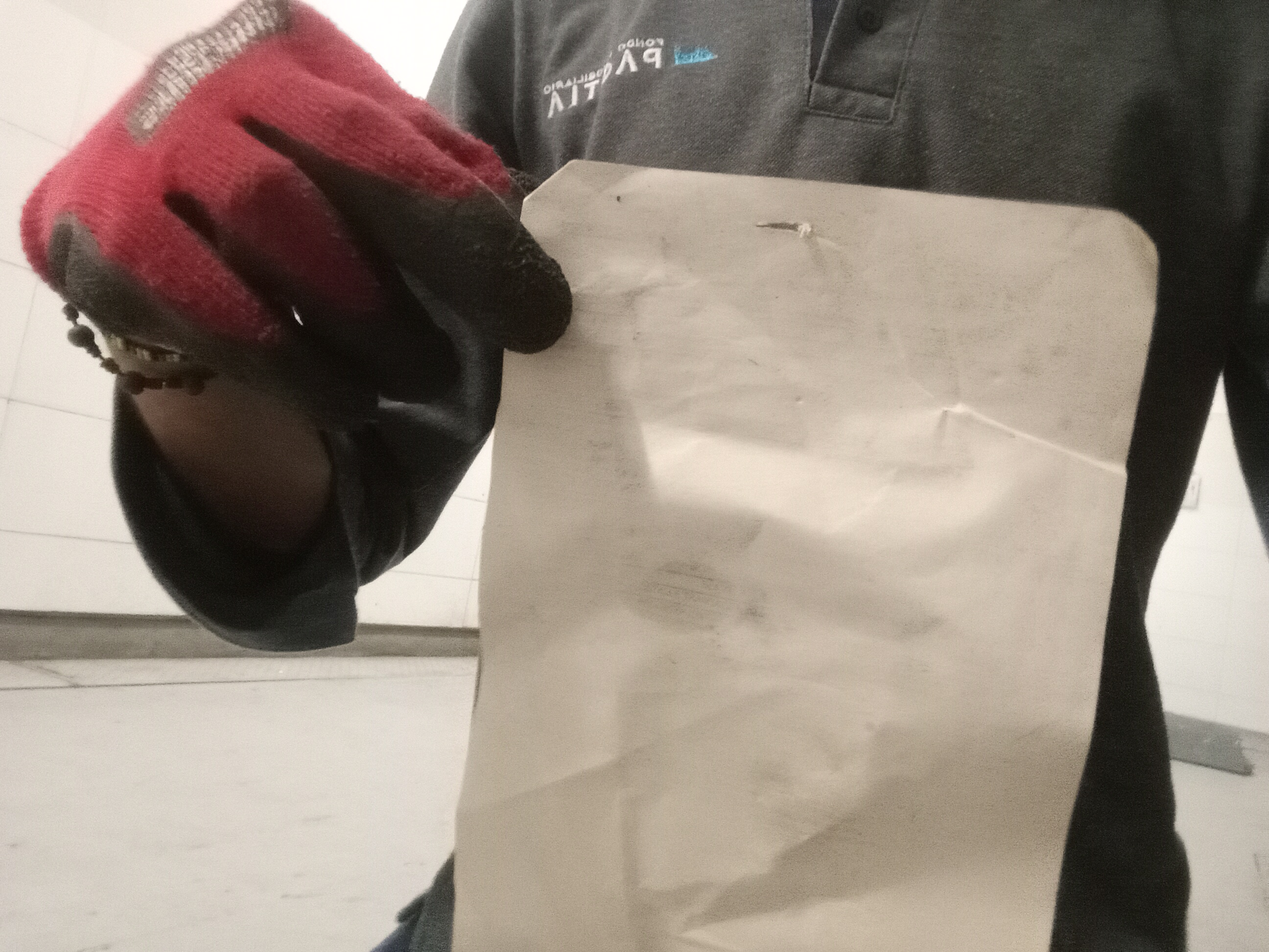Papel: (453, 157, 1161, 952)
